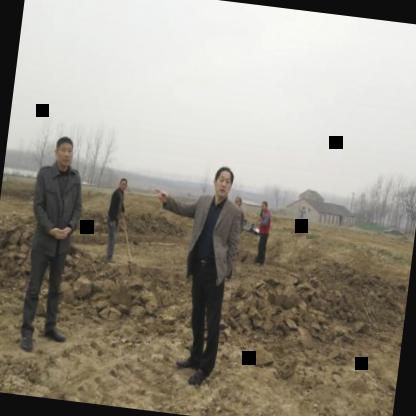head: (49, 130, 78, 172), (209, 161, 236, 204), (116, 173, 130, 194)
